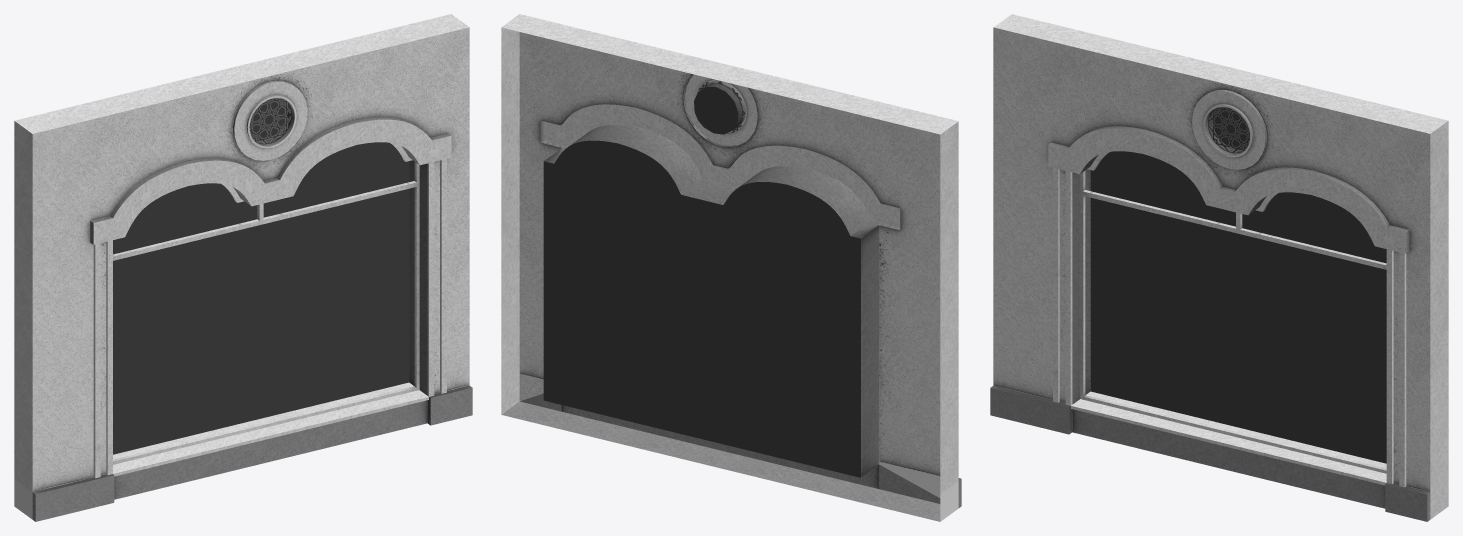
File: floorfirst_1.glb
3 views of the same model, side by side, from view 1: azimuth 30°, elevation 25°; view 2: azimuth 150°, elevation 25°; view 3: azimuth 330°, elevation 25° (orthographic).
Visible parts, largest first — view 1: floorfirst_1; view 2: floorfirst_1; view 3: floorfirst_1.
Part boxes in pixels (bbox=[...]): floorfirst_1: bbox=[14, 14, 472, 521]; floorfirst_1: bbox=[501, 14, 961, 521]; floorfirst_1: bbox=[990, 14, 1448, 521].
Size of the model in its own units: 4.15 by 3.5 by 0.35.
3 materials, 2 textured.
